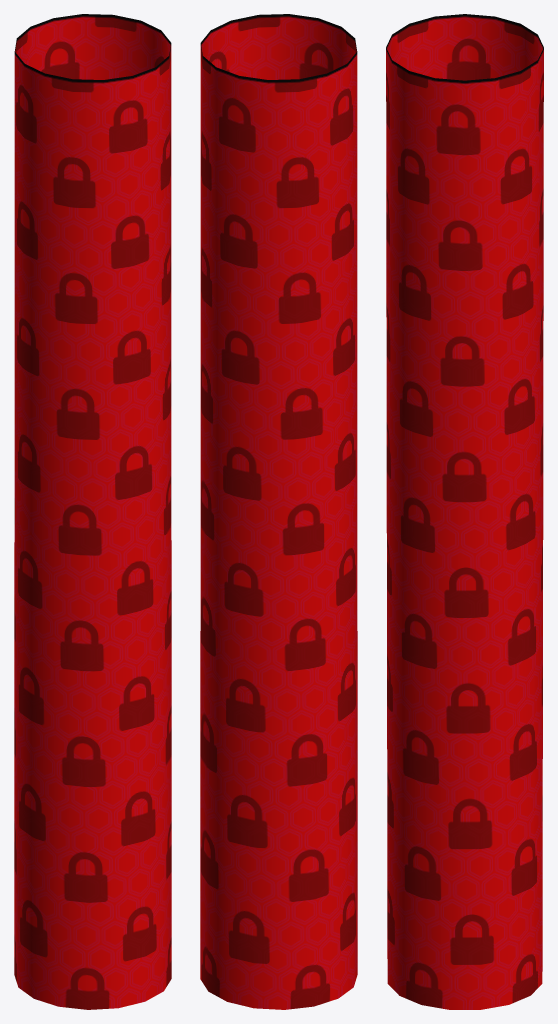
Rendered from exitDoorClose.obj.
3 renders of one model, left to right at view 1: azimuth 30°, elevation 25°; view 2: azimuth 150°, elevation 25°; view 3: azimuth 270°, elevation 25°, orthographic.
Visible parts, largest first — view 1: Shield; view 2: Shield; view 3: Shield.
Boxes of the visible parts, <box> form: Shield: <box>14,14,171,1009</box>; Shield: <box>200,14,357,1009</box>; Shield: <box>386,14,543,1009</box>.
Bounding box in the file's own units: 3.4 × 22.08 × 3.4.
1 material, 1 textured.
